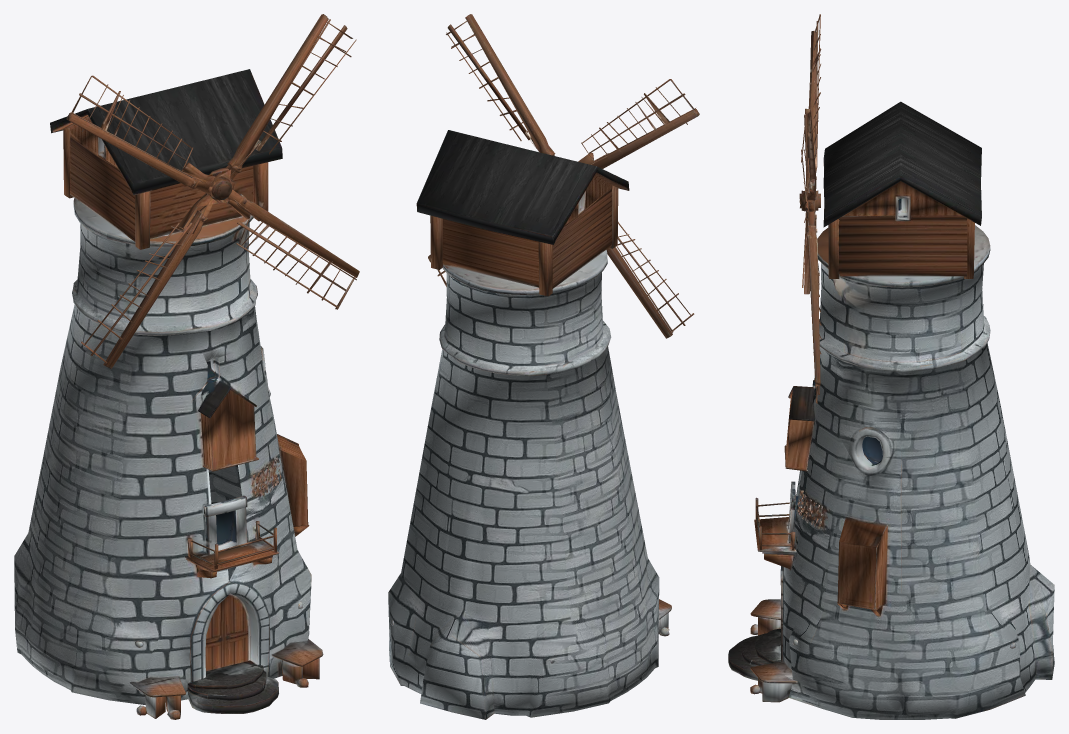
File: windmill.glb
3 views of the same model, side by side, from view 1: azimuth 30°, elevation 25°; view 2: azimuth 150°, elevation 25°; view 3: azimuth 270°, elevation 25° (orthographic). The views are drawn at different scales.
Bounding box in the file's own units: 0.4571 × 0.9531 × 0.4649.
1 material, 1 textured.
